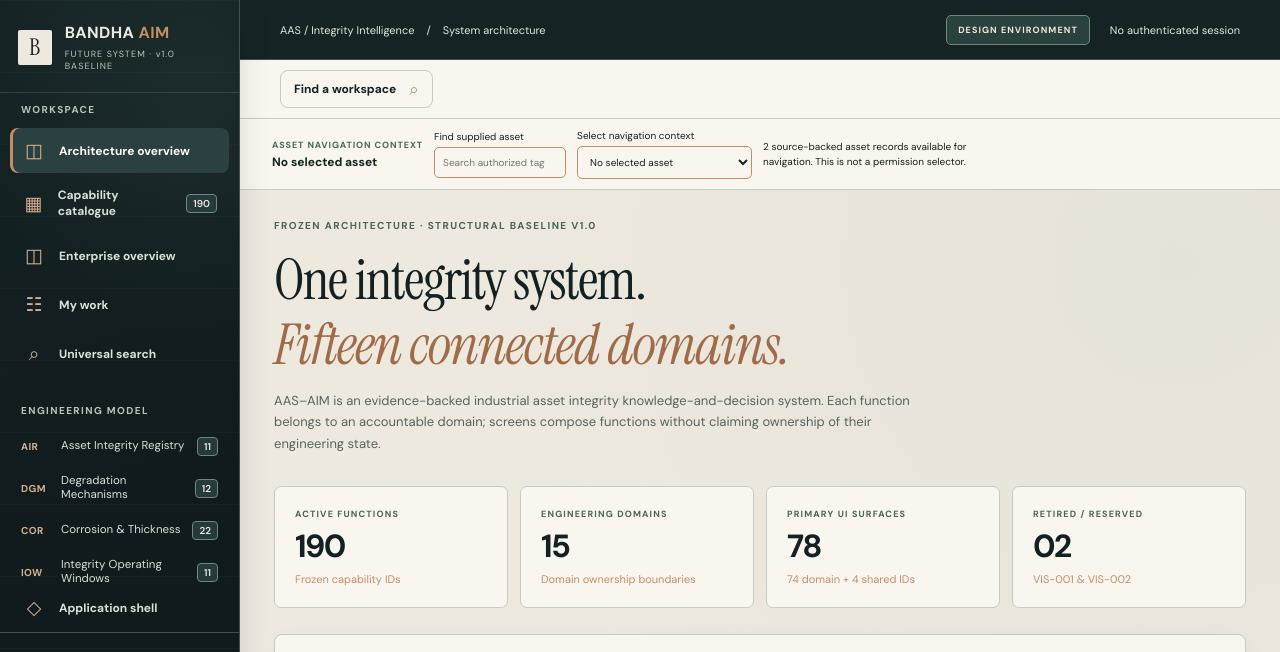
Phase 19 — shell-level record navigation context › can dismiss the record navigation reference
Step 1. Click the button "⌕ Universal search" → [120, 354], box x1=10 y1=331 x2=229 y2=376
(page scrolled)
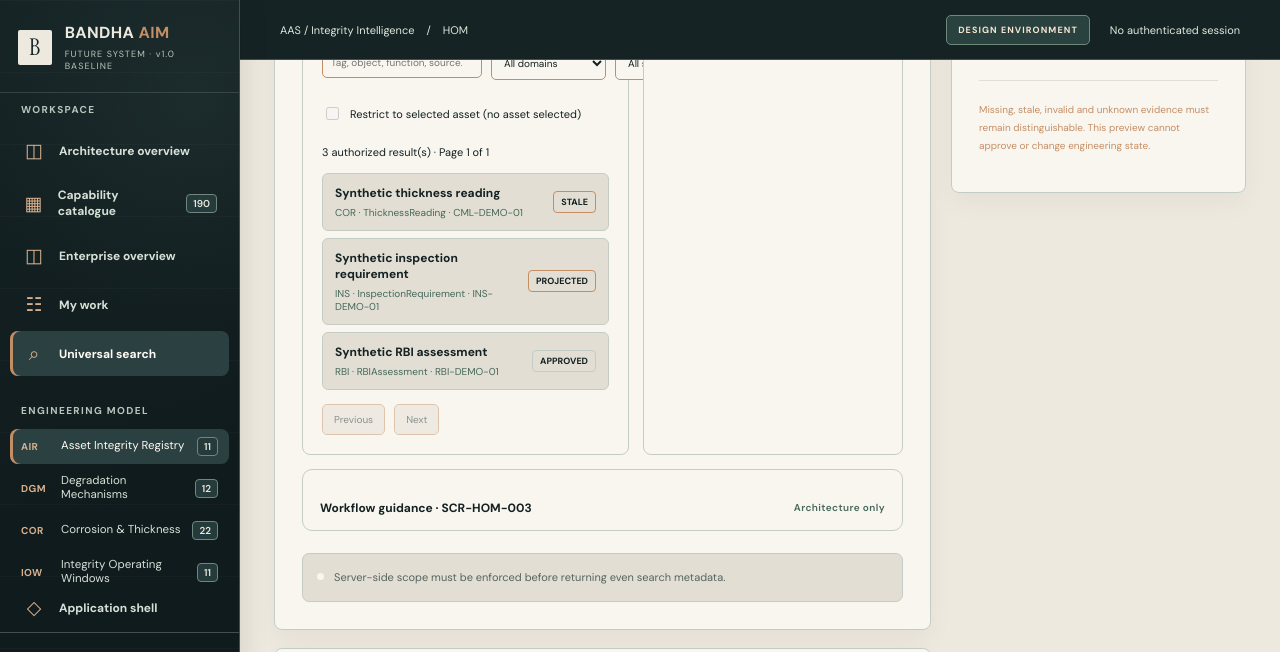
Step 2. Click the button "Synthetic RBI assessment" → [466, 361], box x1=322 y1=332 x2=609 y2=390
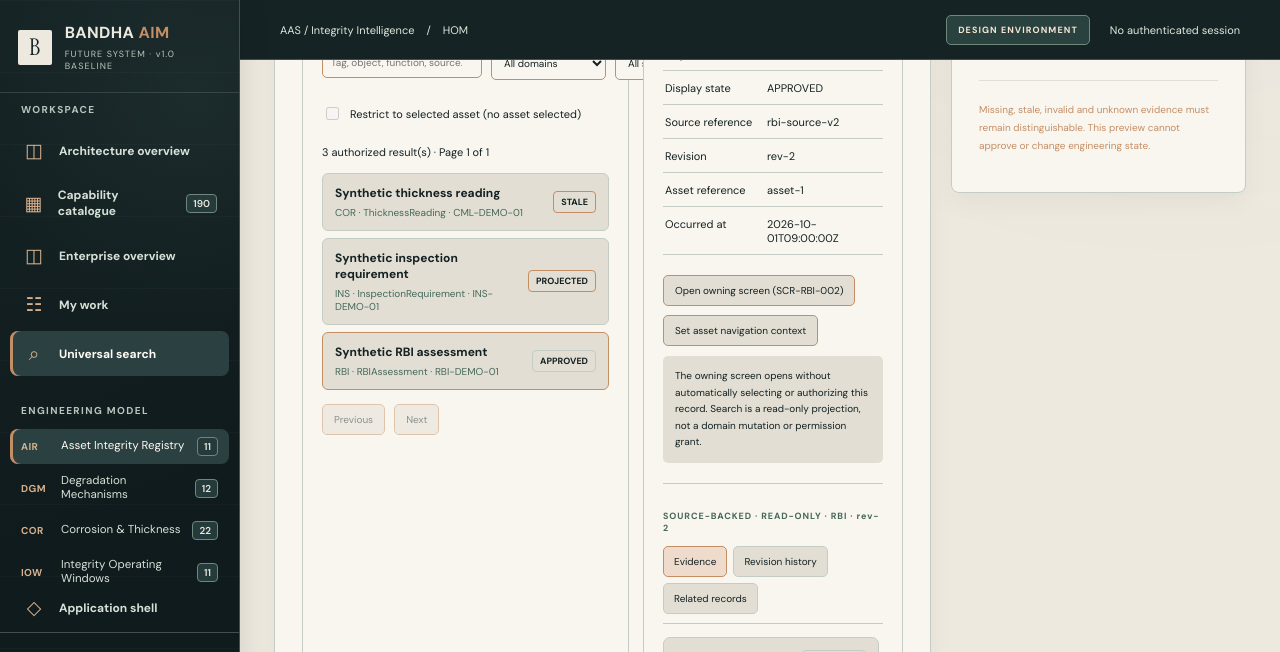
Step 3. Click the button "Open owning screen (SCR-RBI-002)" → [759, 291], box x1=663 y1=275 x2=855 y2=306
(page scrolled)
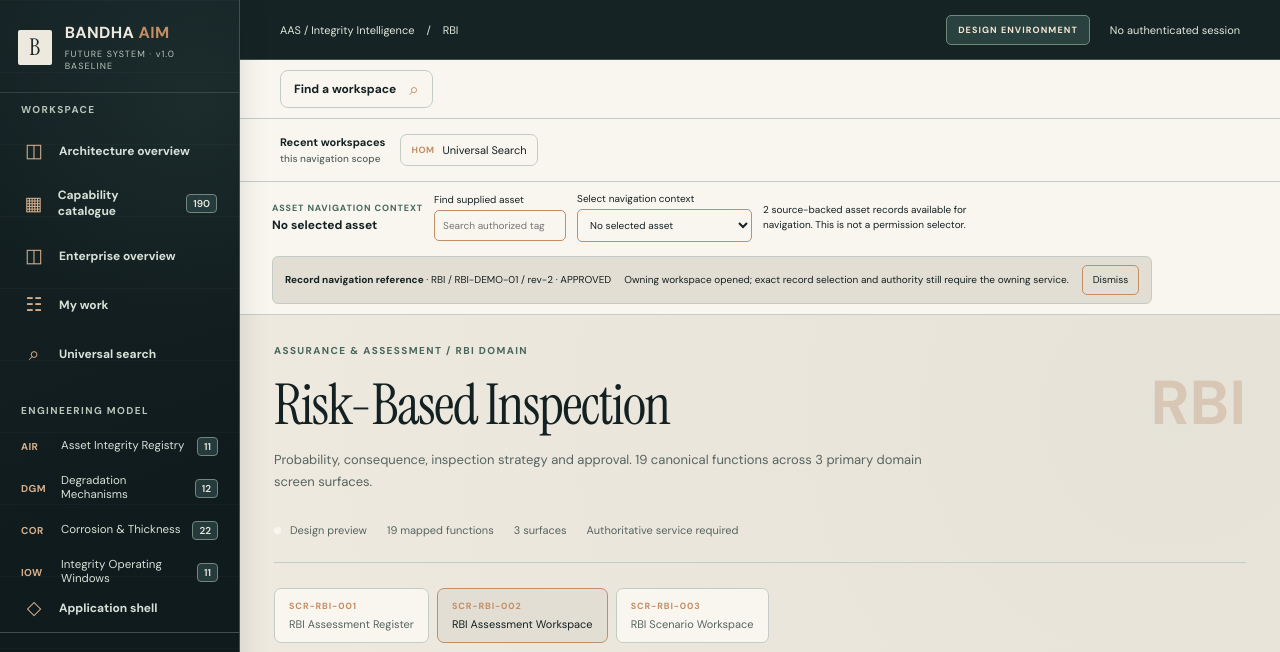
Step 4. Click the button with aria-label "Dismiss record navigation reference" → [1111, 280], box x1=1082 y1=265 x2=1139 y2=295
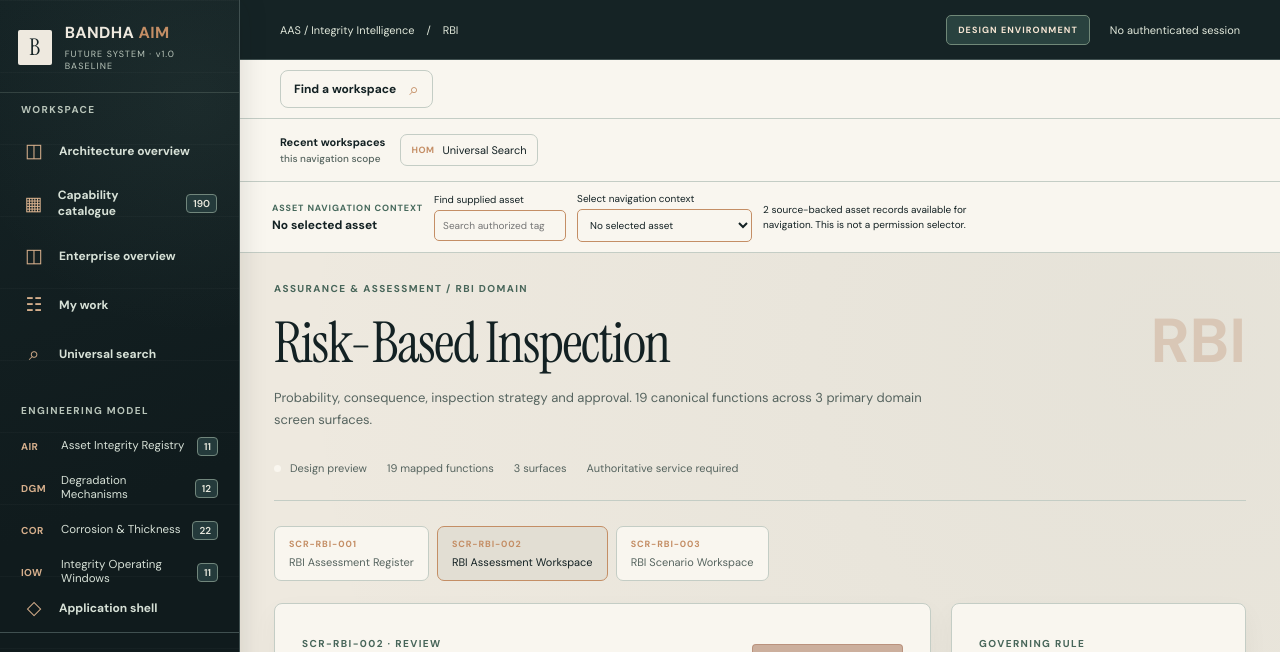
expect the text "Record navigation reference" is gone: met
